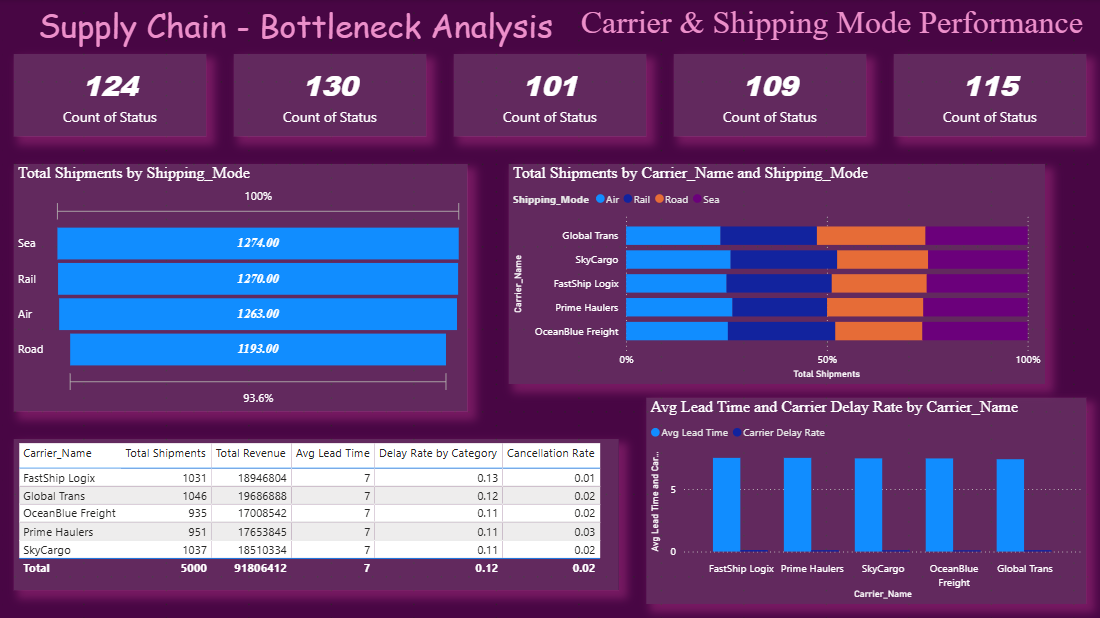

Layout of this report page (visuals, bound fields, positions):
{"tool":"powerbi","page":{"name":"Carrier & Shipping Mode Performance","canvas":[1280,720],"ordinal":2},"visuals":[{"type":"clusteredColumnChart","fields":{"Category":["Shipment_Records.Carrier_Name"],"Y":["Shipment_Records.Avg Lead Time","Shipment_Records.Carrier Delay Rate"]},"box":[752,464,512,240],"z":0},{"type":"textbox","box":[0,0,688,64],"z":1000},{"type":"textbox","box":[656,0,624,64],"z":2000},{"type":"hundredPercentStackedBarChart","fields":{"Category":["Shipment_Records.Carrier_Name"],"Y":["Shipment_Records.Total Shipments"],"Series":["Shipment_Records.Shipping_Mode"]},"box":[592,192,624,256],"z":3000},{"type":"card","title":"Global trans","fields":{"Values":["CountNonNull(Shipment_Records.Status)"]},"box":[16,64,224,96],"z":4000},{"type":"card","title":"FastShip Logix","fields":{"Values":["CountNonNull(Shipment_Records.Status)"]},"box":[272,64,224,96],"z":5000},{"type":"card","title":"OceanBlue Freight","fields":{"Values":["CountNonNull(Shipment_Records.Status)"]},"box":[528,64,224,96],"z":6000},{"type":"card","title":"Prime Haulers","fields":{"Values":["CountNonNull(Shipment_Records.Status)"]},"box":[784,64,224,96],"z":7000},{"type":"card","title":"SkyCargo","fields":{"Values":["CountNonNull(Shipment_Records.Status)"]},"box":[1040,64,224,96],"z":8000},{"type":"funnel","fields":{"Y":["Shipment_Records.Total Shipments"],"Category":["Shipment_Records.Shipping_Mode"]},"box":[16,192,528,288],"z":9000},{"type":"tableEx","fields":{"Values":["Shipment_Records.Carrier_Name","Shipment_Records.Total Shipments","Shipment_Records.Total Revenue","Shipment_Records.Avg Lead Time","Shipment_Records.Delay Rate by Category","Shipment_Records.Cancellation Rate"]},"box":[16,512,704,176],"z":10000}]}

Visuals, with their boxes in screenshot pixels (x1, y1, x2, y2), scaled from the page's 1280x720 canvas onto the 1100x618 screenshot:
clusteredColumnChart - Shipment_Records.Carrier_Name x Shipment_Records.Avg Lead Time: region(646, 398, 1086, 604)
textbox: region(0, 0, 591, 55)
textbox: region(564, 0, 1099, 55)
hundredPercentStackedBarChart - Shipment_Records.Carrier_Name x Shipment_Records.Total Shipments: region(509, 165, 1045, 385)
"Global trans" card: region(14, 55, 206, 137)
"FastShip Logix" card: region(234, 55, 426, 137)
"OceanBlue Freight" card: region(454, 55, 646, 137)
"Prime Haulers" card: region(674, 55, 866, 137)
"SkyCargo" card: region(894, 55, 1086, 137)
funnel - Shipment_Records.Total Shipments x Shipment_Records.Shipping_Mode: region(14, 165, 468, 412)
tableEx - Shipment_Records.Carrier_Name x Shipment_Records.Total Shipments: region(14, 439, 619, 591)
